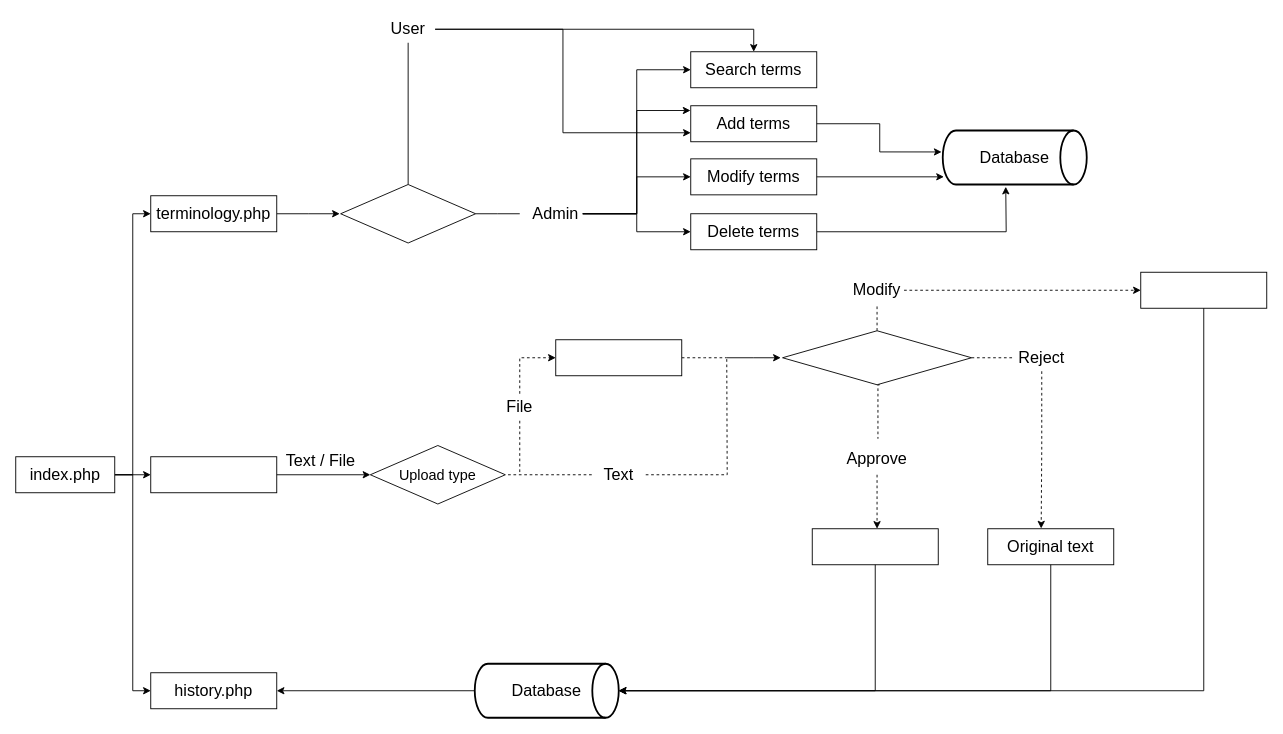
Some shapes in this 1283 by 734 pixel diagram are drawn without their labels. The shapes that lost their labels are listed below. From the top down, each one's box as (x1, y1, x2, y2) in pixels, then its label:
(340, 184, 476, 243): User role
(1140, 271, 1267, 308): Modified text
(555, 339, 682, 376): Sentence split
(782, 330, 972, 385): Text optimization
(150, 456, 277, 493): optimize.php
(811, 528, 938, 565): Optimized text
